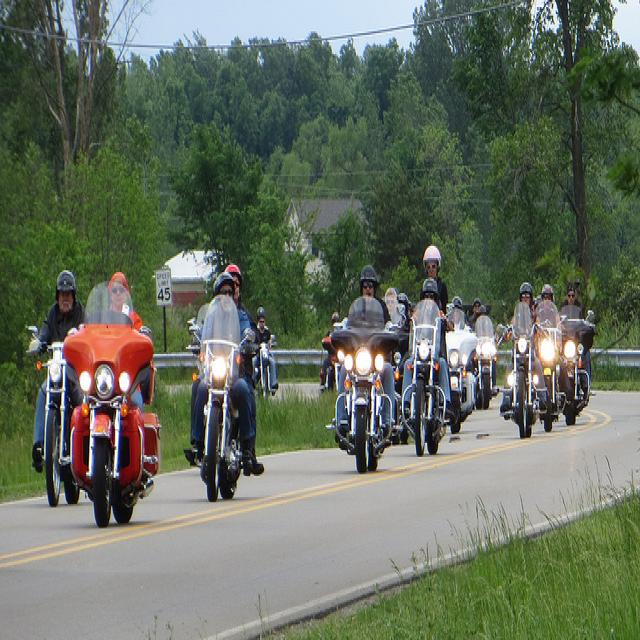motor: (56, 279, 165, 528), (329, 295, 408, 476), (188, 291, 255, 503), (22, 319, 82, 505), (496, 303, 551, 442), (402, 301, 451, 456), (534, 299, 567, 436), (560, 306, 595, 426), (446, 309, 476, 434), (472, 314, 507, 411), (384, 351, 406, 424), (256, 334, 278, 402), (320, 337, 339, 394)
